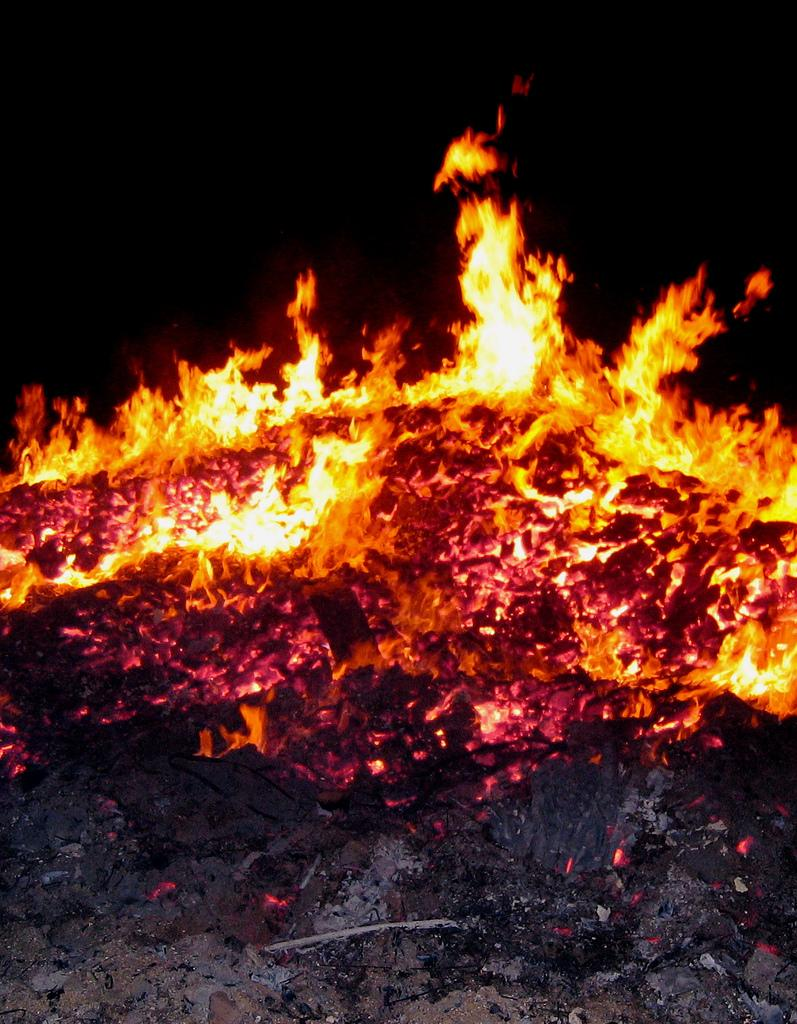fire: (10, 405, 152, 530), (458, 238, 578, 382), (608, 405, 780, 502), (638, 278, 725, 370), (180, 355, 265, 440)
